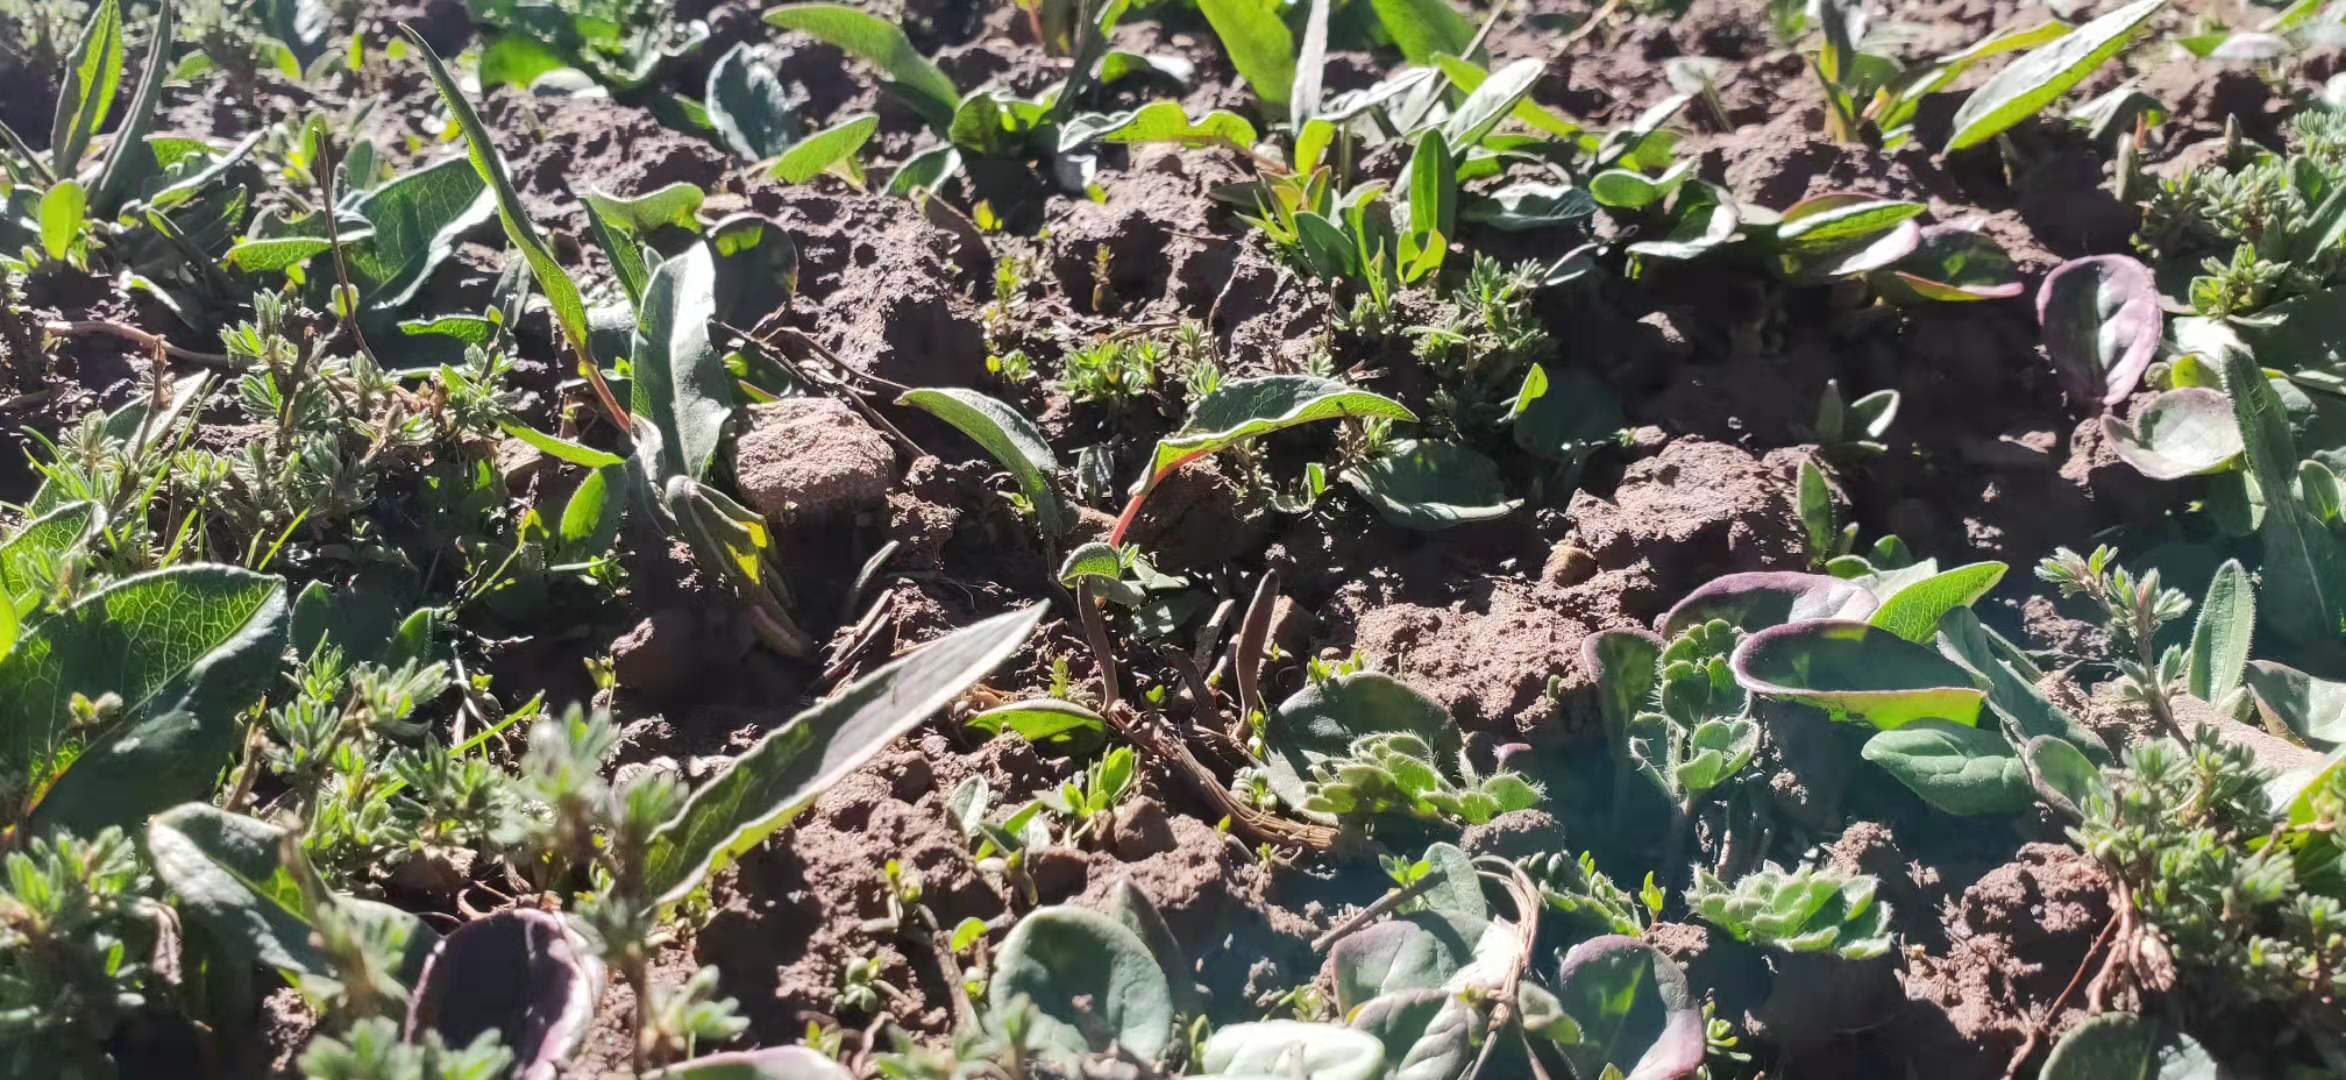w: (1236, 568, 1281, 736), (1077, 576, 1119, 714)
